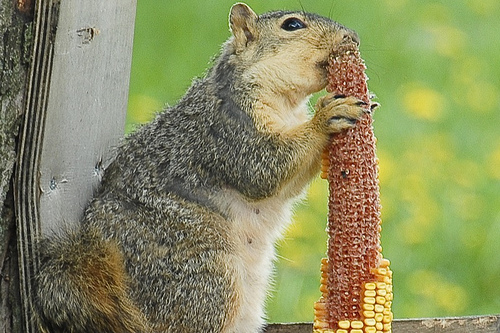corn: (315, 46, 392, 332)
